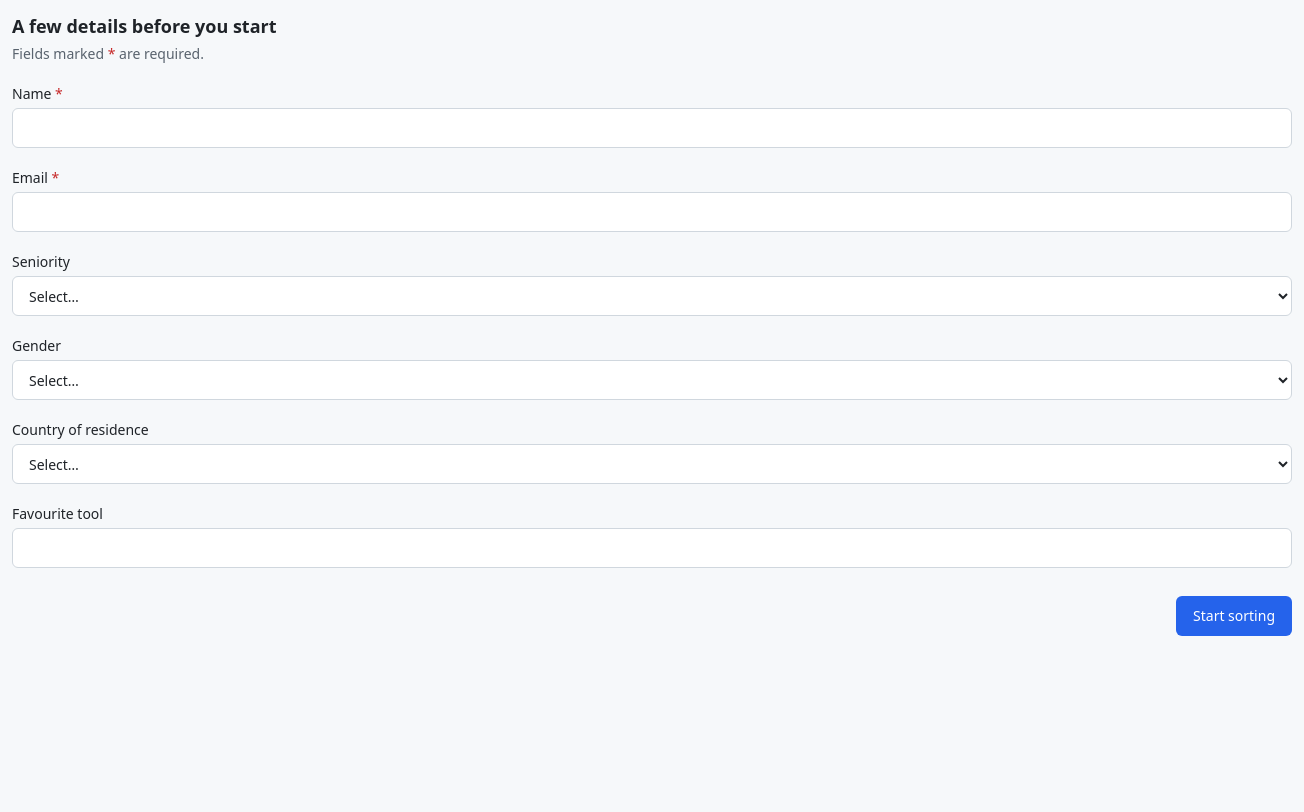
Test: DetailsForm › PFLD-02: shows per-field errors, marks them invalid and focuses the first
The width and height of the screenshot is (1304, 812).
Type "nope" into the field labelled "Email *".
click(652, 212); type("nope")  # box left=12, top=192, right=1292, bottom=232
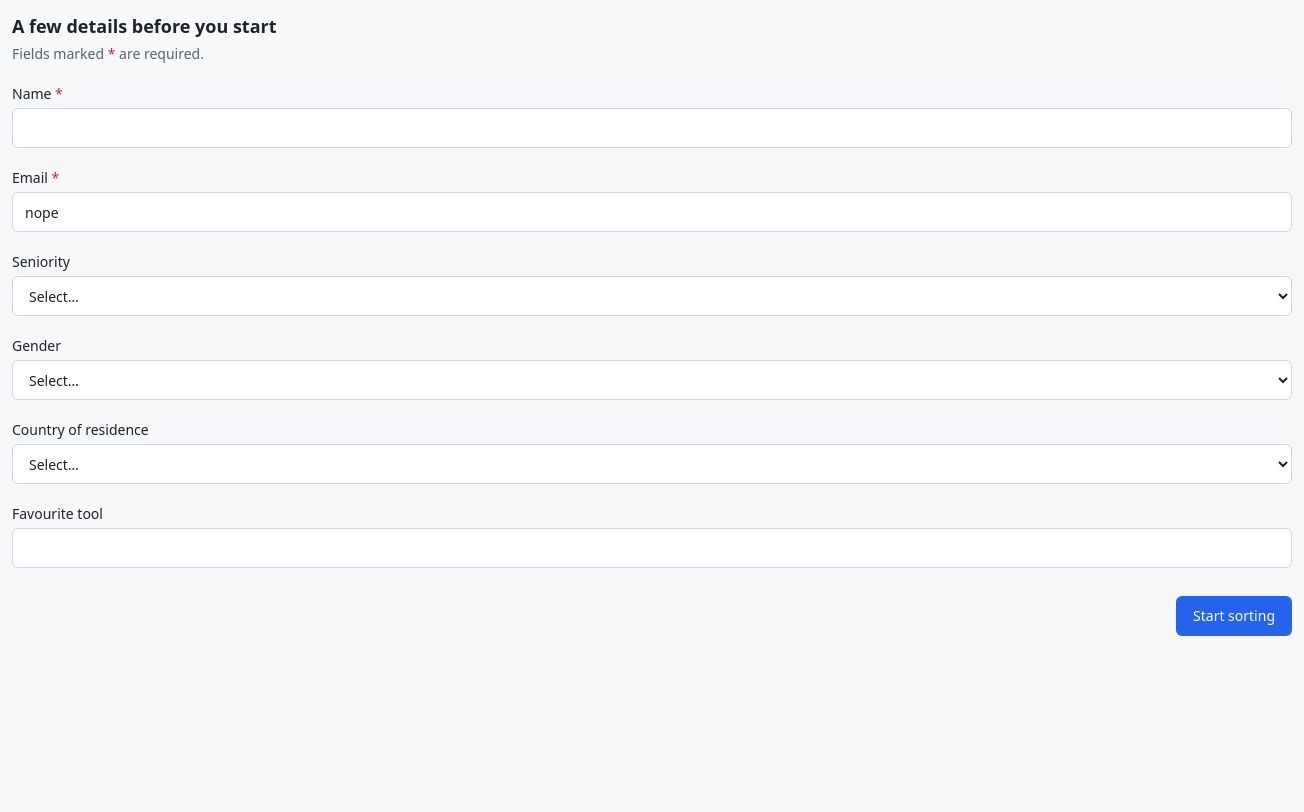
Click the button "Start sorting".
click(1234, 616)  # box left=1176, top=596, right=1292, bottom=636
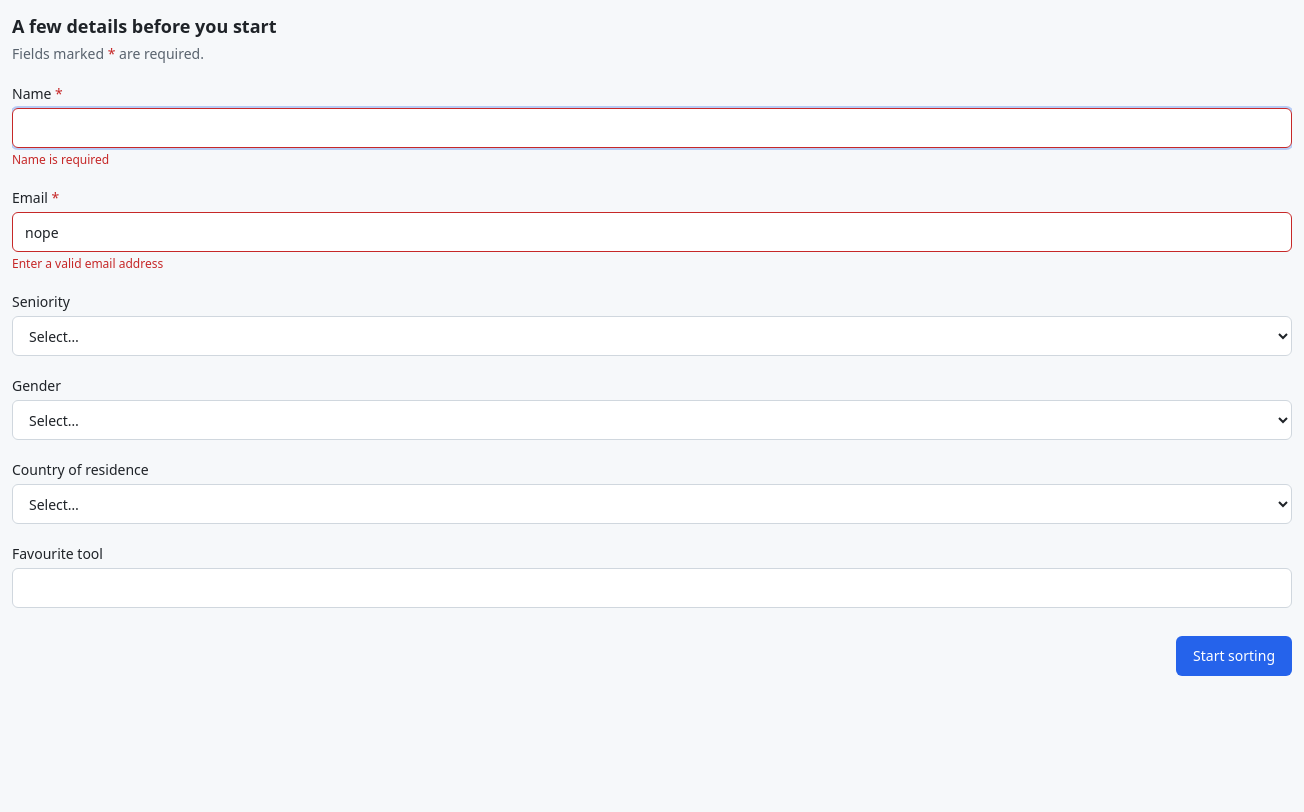
Now the text "Name is required" is shown, box left=12, top=151, right=109, bottom=168
Now the text "Enter a valid email address" is shown, box left=12, top=255, right=163, bottom=272
